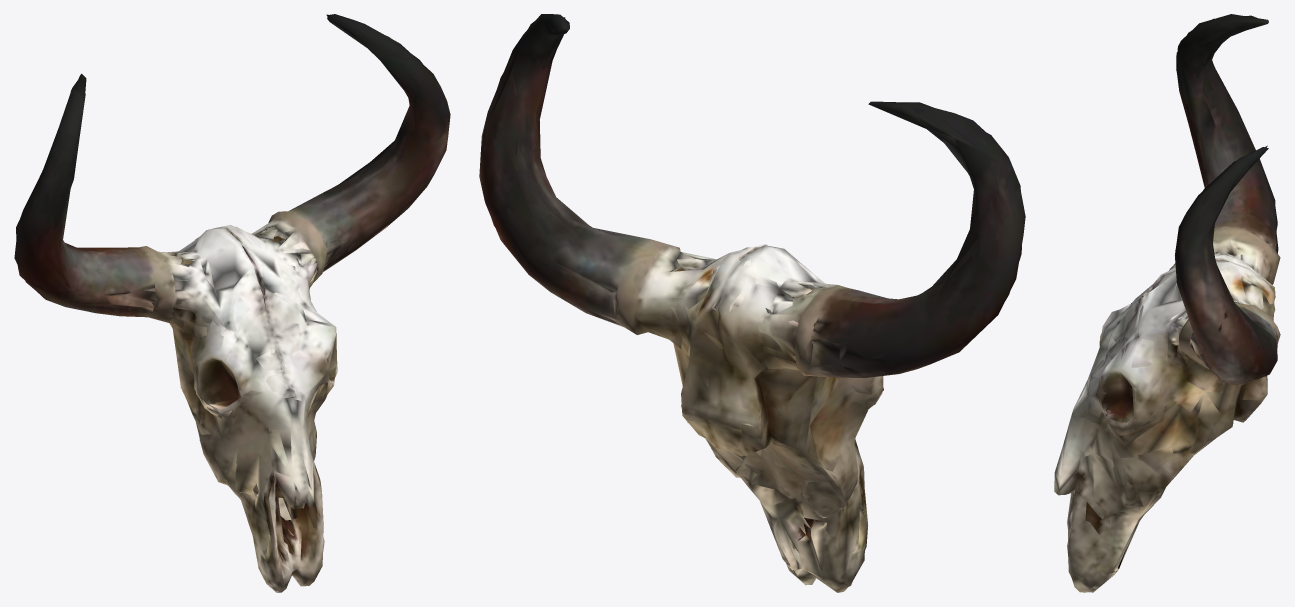
The model's file is bull-skull.glb.
3 renders of one model, left to right at view 1: azimuth 30°, elevation 25°; view 2: azimuth 150°, elevation 25°; view 3: azimuth 270°, elevation 25°, orthographic. The views are drawn at different scales.
Parts seen in each view (by area): view 1: bull-skull; view 2: bull-skull; view 3: bull-skull.
Part boxes in pixels (bbox=[...]): bull-skull: bbox=[14, 14, 450, 592]; bull-skull: bbox=[479, 14, 1025, 592]; bull-skull: bbox=[1054, 14, 1280, 592].
Size of the model in its own units: 1.1 by 1.19 by 0.4834.
1 material, 1 textured.
